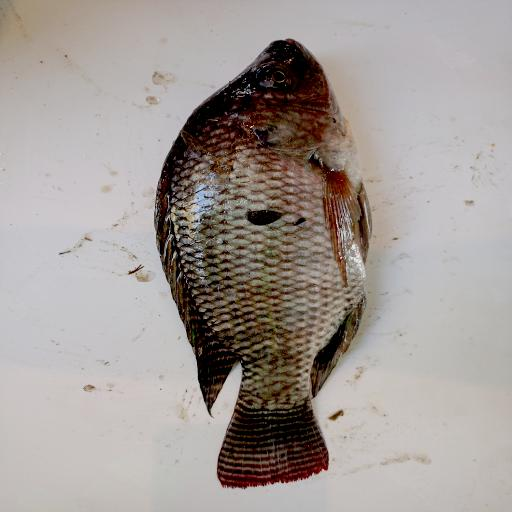Tilapia: (154, 39, 372, 489)
